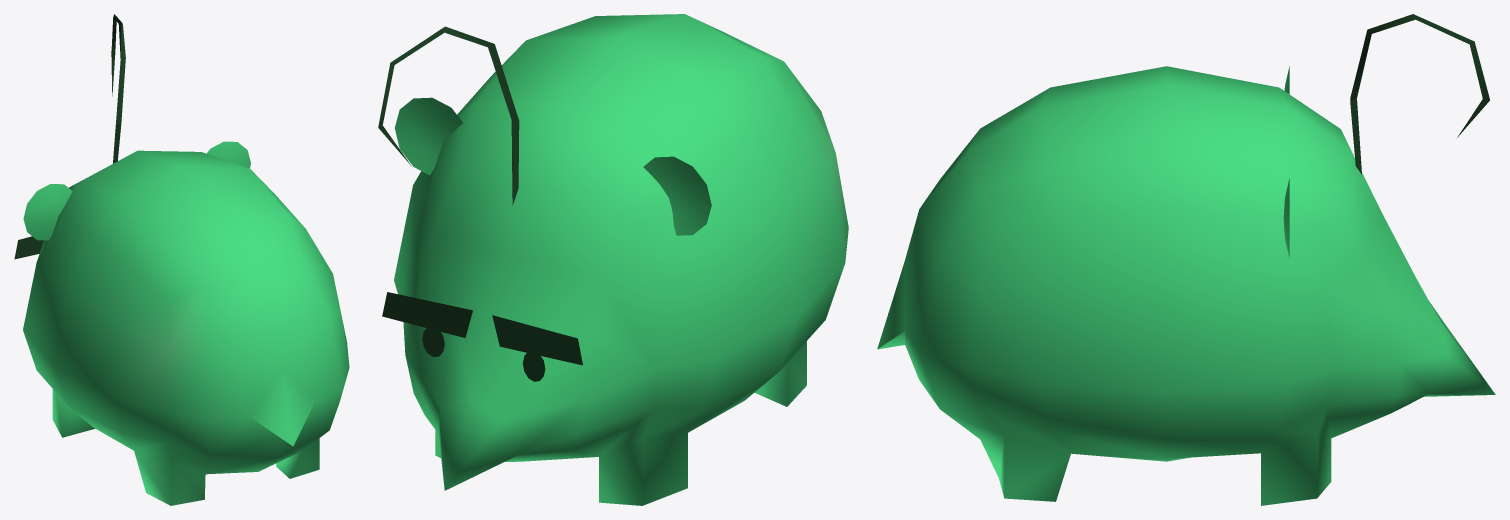
File: forest_sprite.glb
The picture shows the model from 3 angles, left to right: view 1: azimuth 30°, elevation 25°; view 2: azimuth 150°, elevation 25°; view 3: azimuth 270°, elevation 25°; orthographic projection. The views are drawn at different scales.
Visible parts, largest first — view 1: body; view 2: body; view 3: body.
Boxes of the visible parts, left/top/right/bottom form: body: left=14, top=14, right=349, bottom=505; body: left=378, top=14, right=848, bottom=505; body: left=877, top=14, right=1495, bottom=505.
Bounding box in the file's own units: 2.09 × 2.67 × 3.29.
